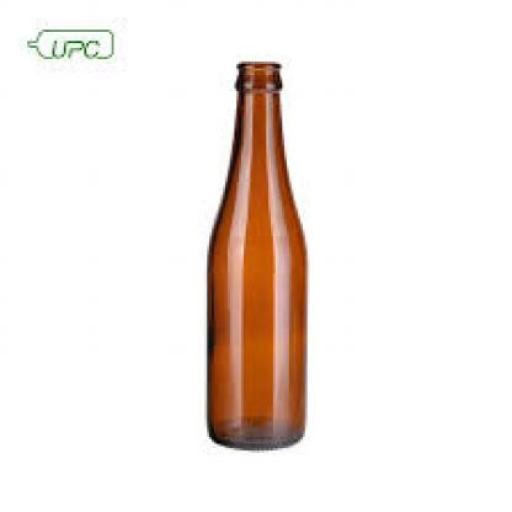glass: (207, 62, 305, 450)
